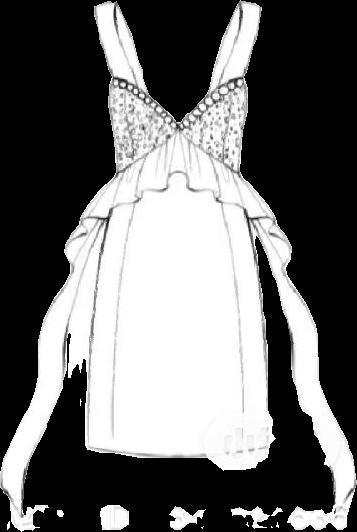Bodice: (94, 0, 261, 171)
Hemline: (106, 171, 244, 216), (84, 442, 270, 460)
Neckline: (113, 0, 247, 129), (108, 73, 246, 128)
Skirt: (87, 131, 274, 457)
Waistline: (114, 125, 240, 176)
